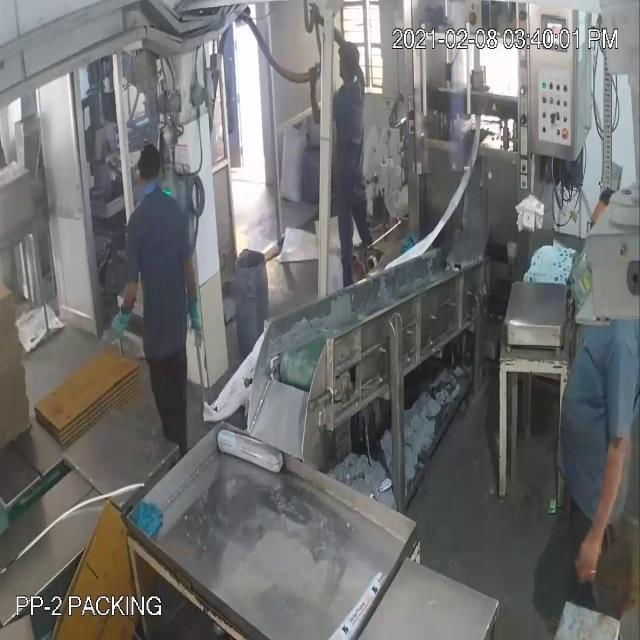No_Gloves: (28, 74, 595, 502)
